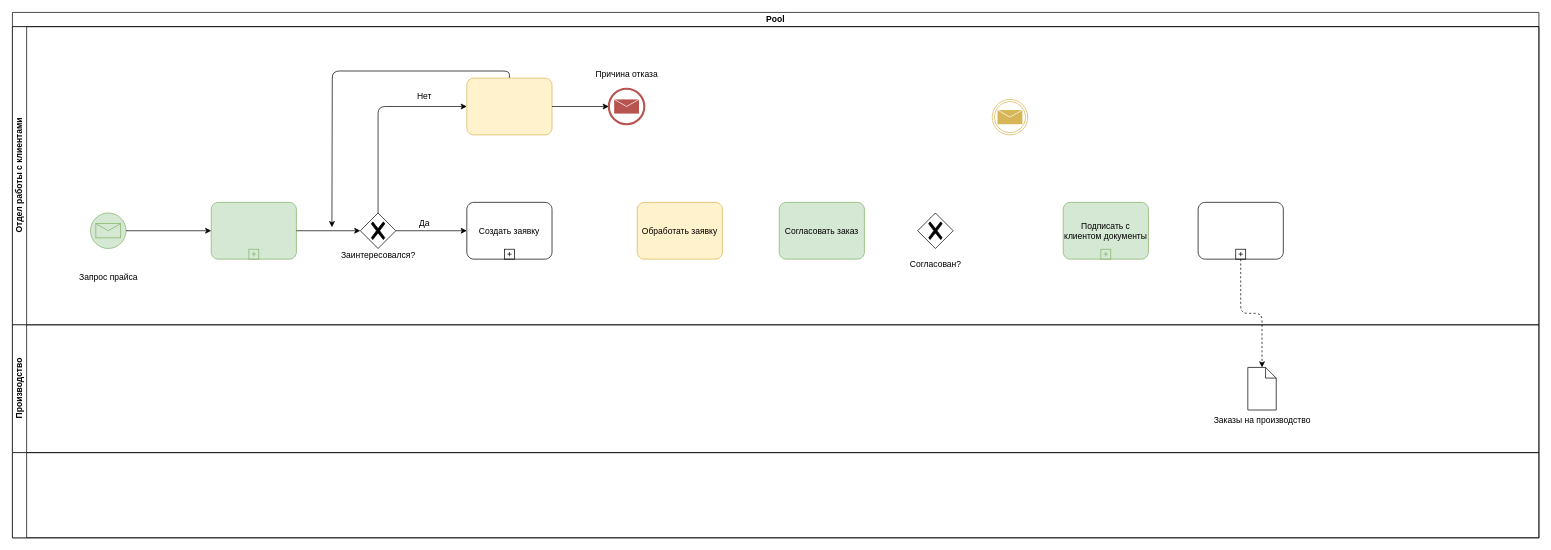
This 1551x550 diagram has some shape labels left out. The centre of each missing label's shape, as x and y in pixels:
Lane 3: point (775, 495)
Отправить заказ в производство: point (1240, 230)
Отработать возражения: point (509, 106)
Предоставить прайс: point (253, 230)
